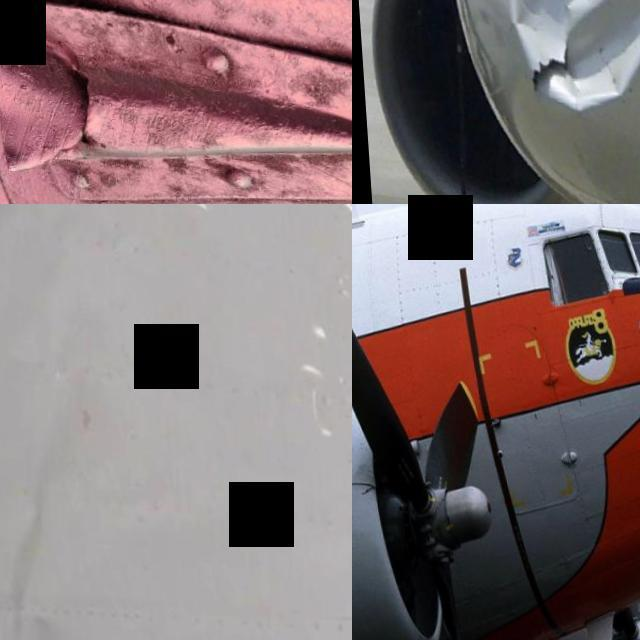Crack: (38, 39, 108, 161), (527, 37, 566, 84), (352, 483, 369, 500)
Dent: (501, 0, 640, 114), (0, 442, 52, 640)
